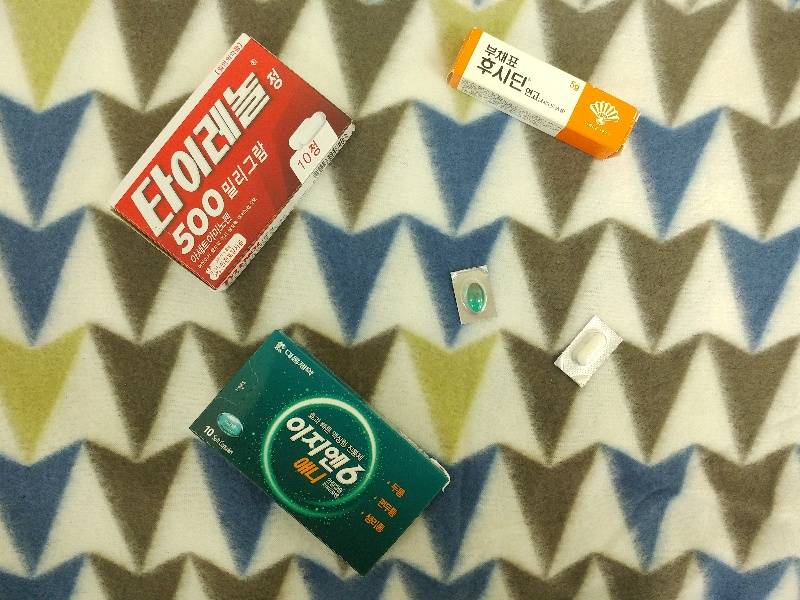ezn: (187, 331, 449, 576)
fucidin: (446, 28, 641, 162)
pill_ezn: (452, 265, 499, 328)
pill_tylenol: (553, 315, 624, 388)
tylenol: (112, 35, 358, 290)
